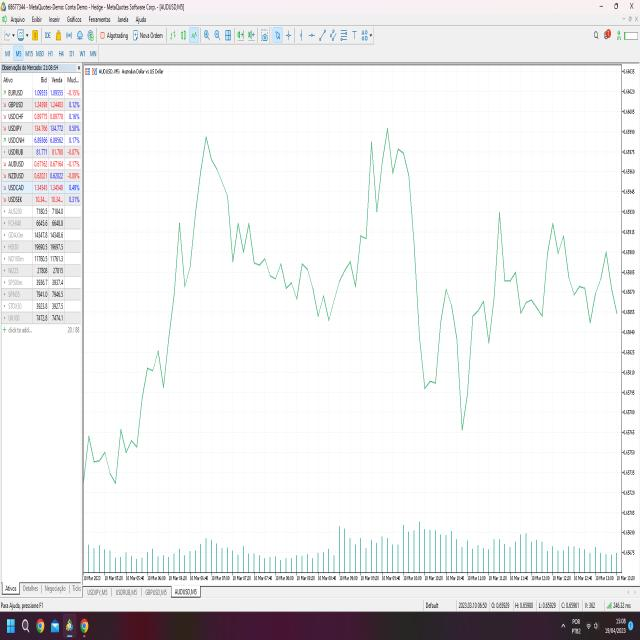oco: (348, 113, 436, 277)
oco_inv: (408, 287, 504, 450)
